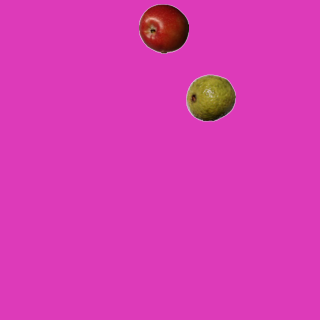Apple Braeburn: (138, 3, 188, 53)
Guava: (185, 72, 235, 122)
